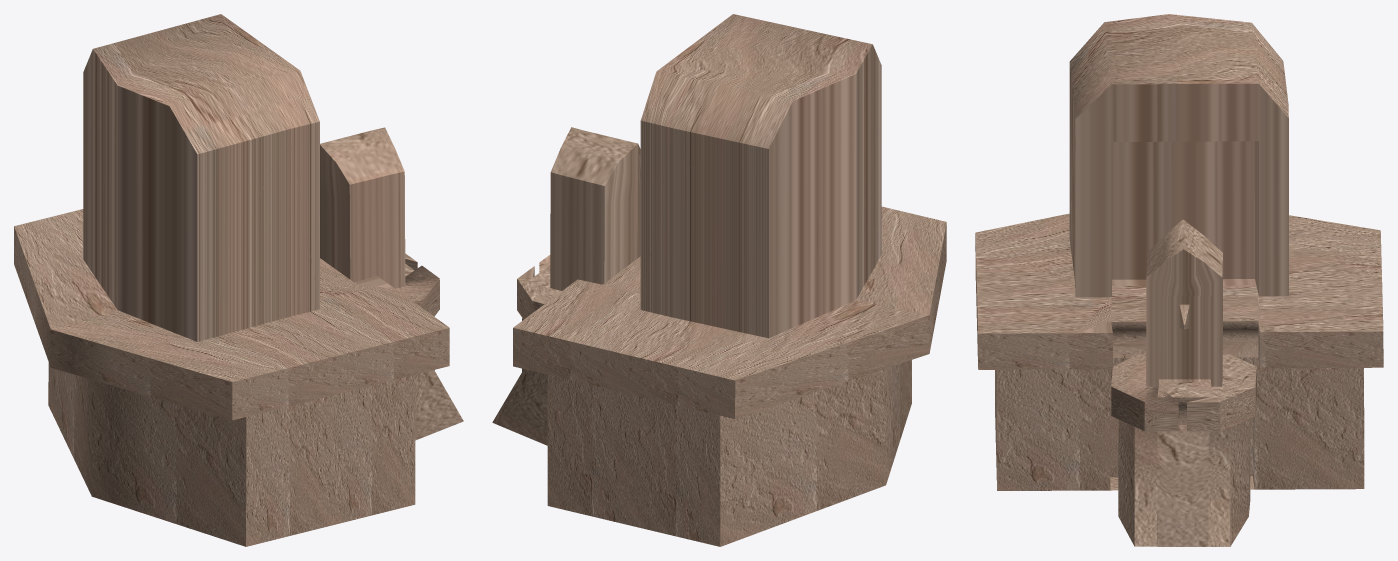
The model's file is Shrine leto.fbx.
3 views of the same model, side by side, from view 1: azimuth 30°, elevation 25°; view 2: azimuth 150°, elevation 25°; view 3: azimuth 270°, elevation 25° (orthographic). The views are drawn at different scales.
Visible parts, largest first — view 1: polySurface9, polySurface10, polySurface6, polySurface7; view 2: polySurface9, polySurface10, polySurface6, polySurface7; view 3: polySurface9, polySurface10, polySurface6, polySurface7.
Part boxes in pixels (bbox=[...]): polySurface9: bbox=[14, 14, 449, 420]; polySurface10: bbox=[48, 362, 415, 546]; polySurface6: bbox=[320, 127, 439, 316]; polySurface7: bbox=[415, 370, 463, 440]; polySurface9: bbox=[513, 14, 946, 418]; polySurface10: bbox=[547, 360, 911, 546]; polySurface6: bbox=[517, 127, 640, 319]; polySurface7: bbox=[492, 318, 547, 445]; polySurface9: bbox=[975, 14, 1383, 369]; polySurface10: bbox=[995, 357, 1364, 490]; polySurface6: bbox=[1111, 219, 1256, 431]; polySurface7: bbox=[1118, 418, 1250, 546].
Size of the model in its own units: 11.21 by 10.83 by 10.49.
Materials: 3 (3 with a texture image).
